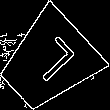L_SW: (19, 34, 77, 91)
